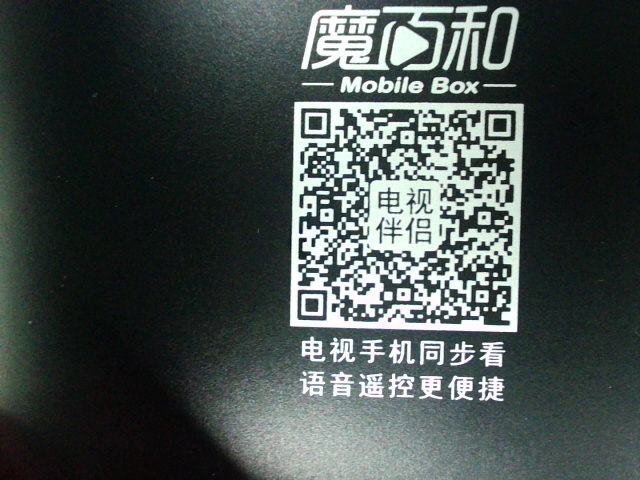AZ_MobileBox: (281, 1, 528, 409)
